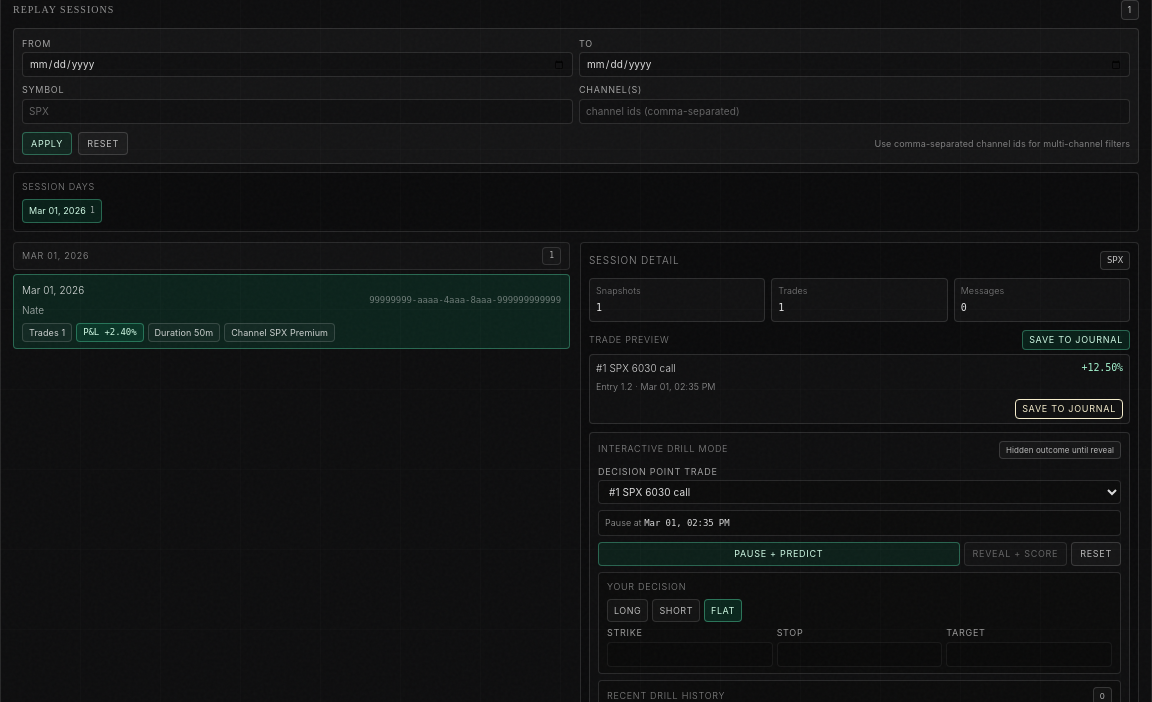
Scenario: spx-command-center/replay-session-browser › supports drill pause and reveal flow with persisted result submission
Check: the text "#1 SPX 6030 call" is shown, box [596,359,676,377]
Click the button with test id "spx-replay-drill-start": {"x": 779, "y": 554} [598,542,960,566]
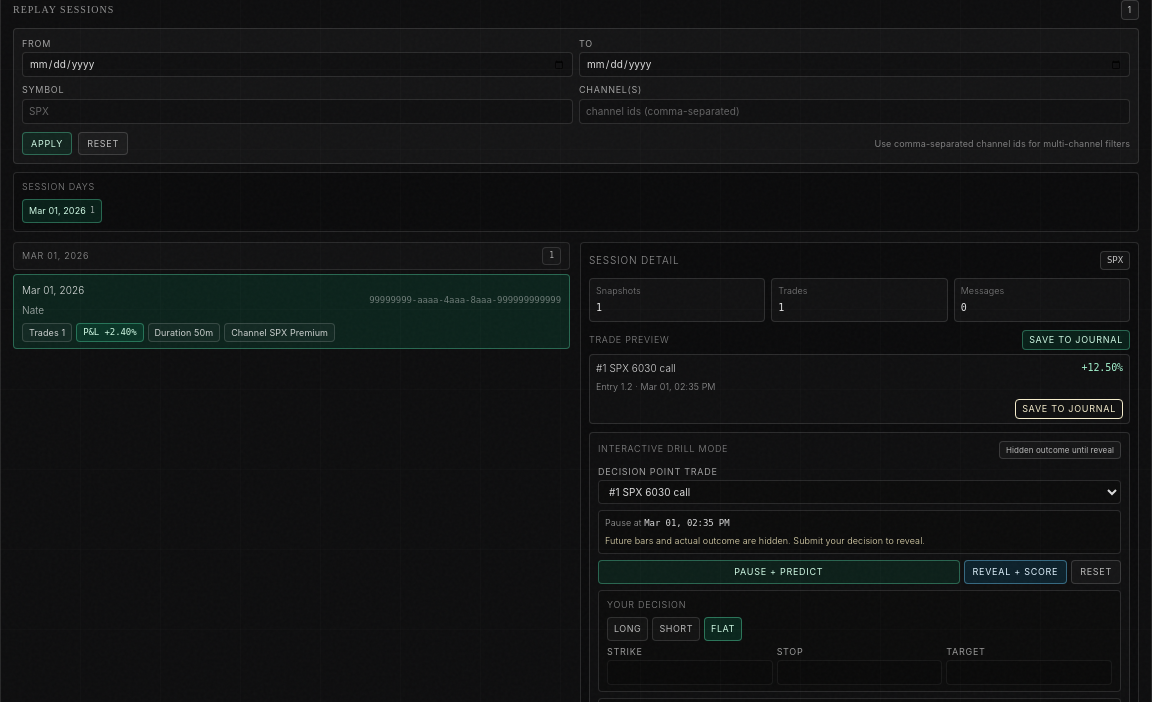
Check: the text with test id "spx-replay-drill-hidden" is shown, box [605,535,925,546]
Click the button with test id "spx-replay-drill-direction-long": {"x": 628, "y": 629} [607,617,648,641]
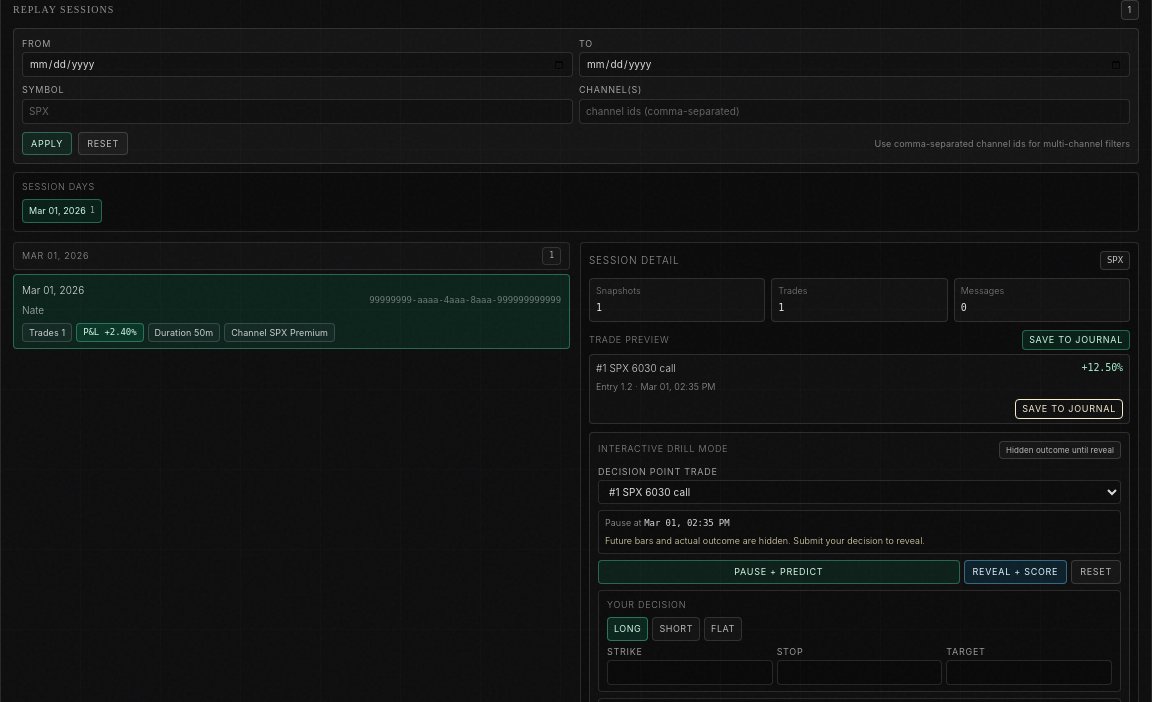
In the number field with test id "spx-replay-drill-input-strike": {"x": 690, "y": 673} [607,660,773,685], type "6030"
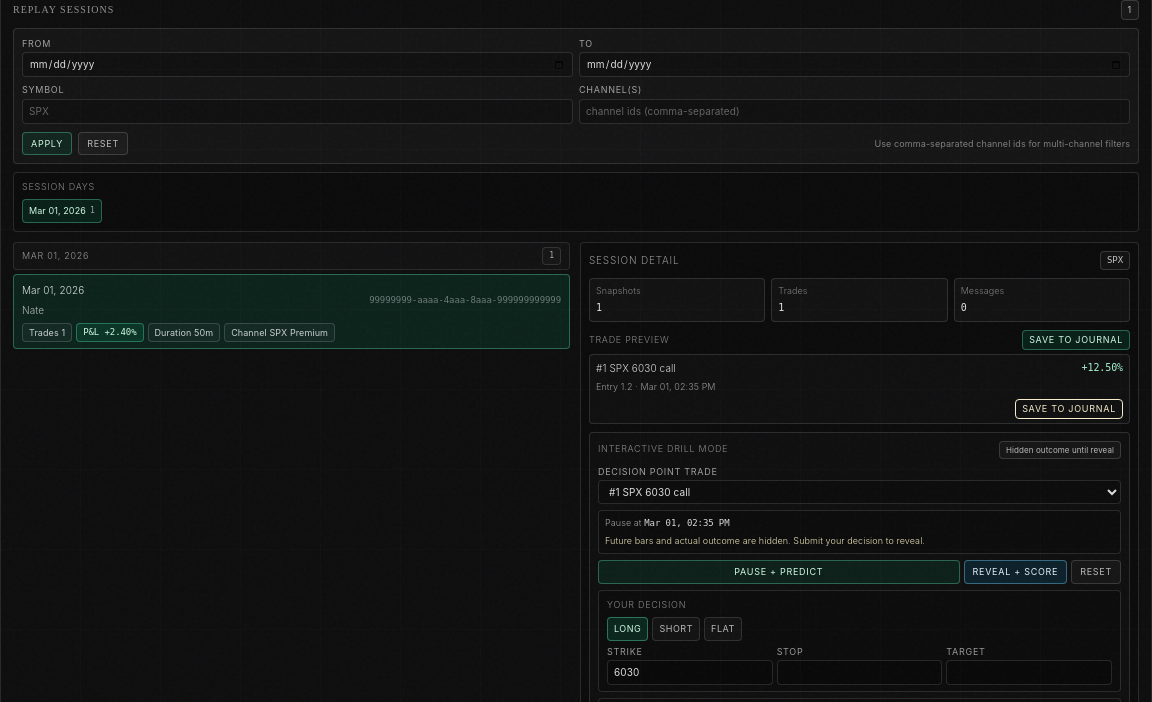
In the number field with test id "spx-replay-drill-input-stop": {"x": 860, "y": 673} [777,660,942,685], type "6025"
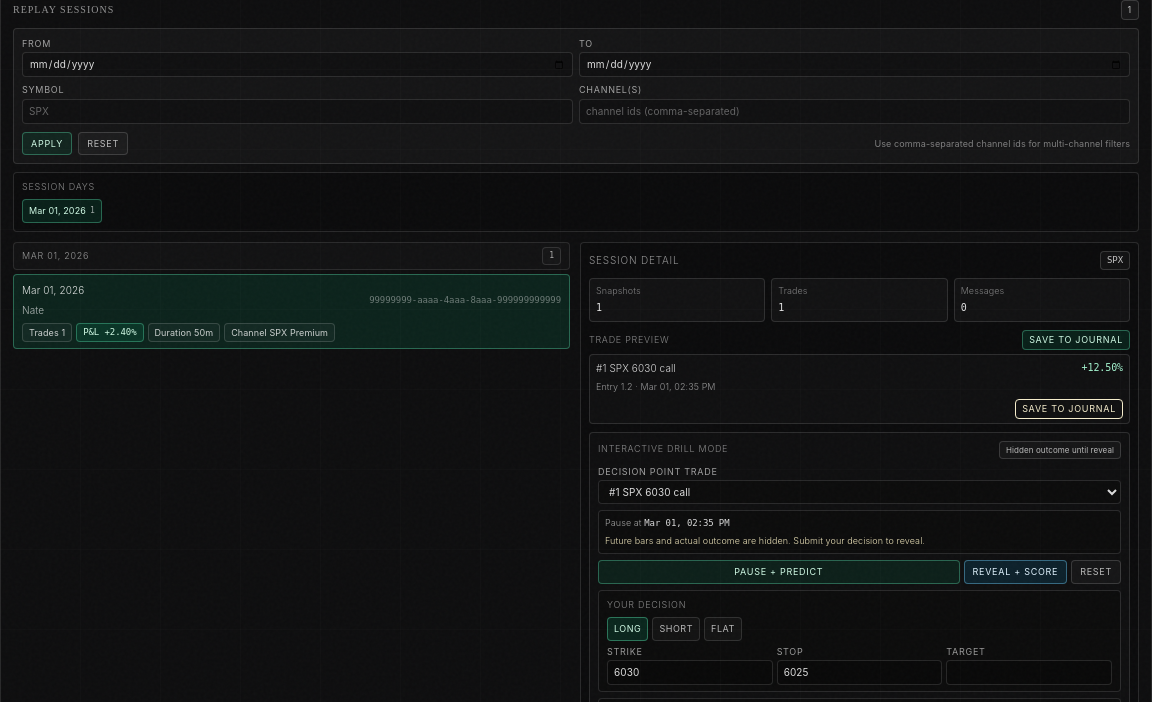
In the number field with test id "spx-replay-drill-input-target": {"x": 1029, "y": 673} [946,660,1112,685], type "6040"
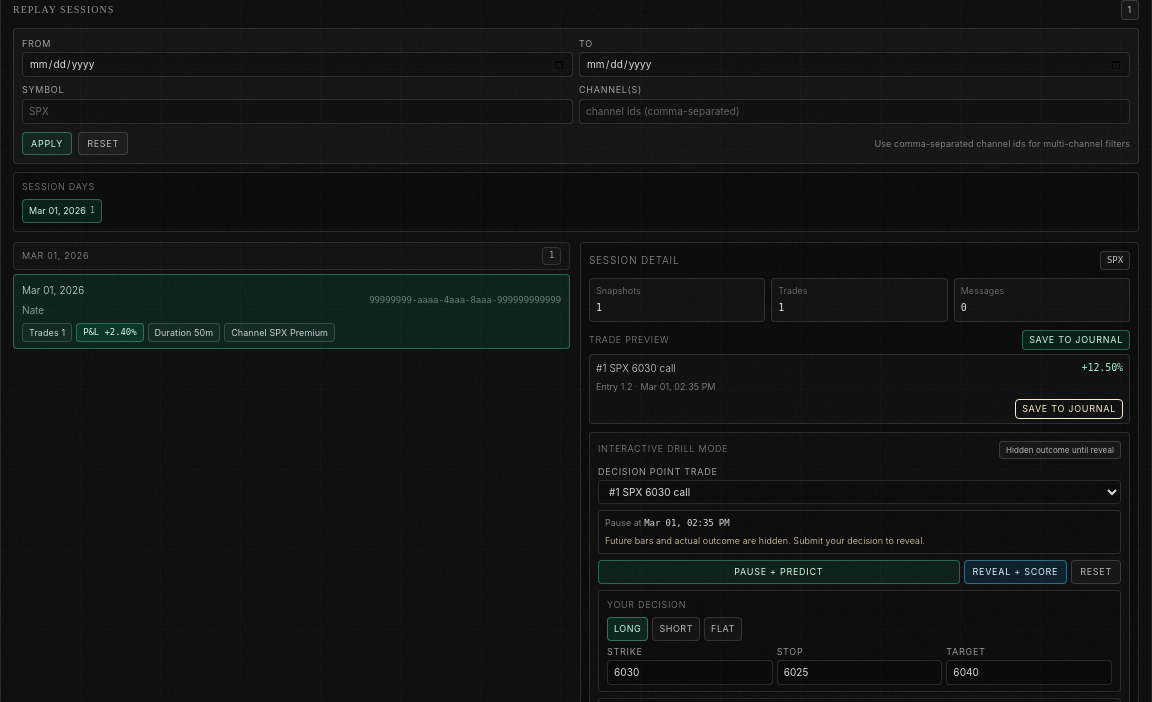
Click the button with test id "spx-replay-drill-reveal": {"x": 1015, "y": 572} [964,560,1067,584]
(page scrolled)
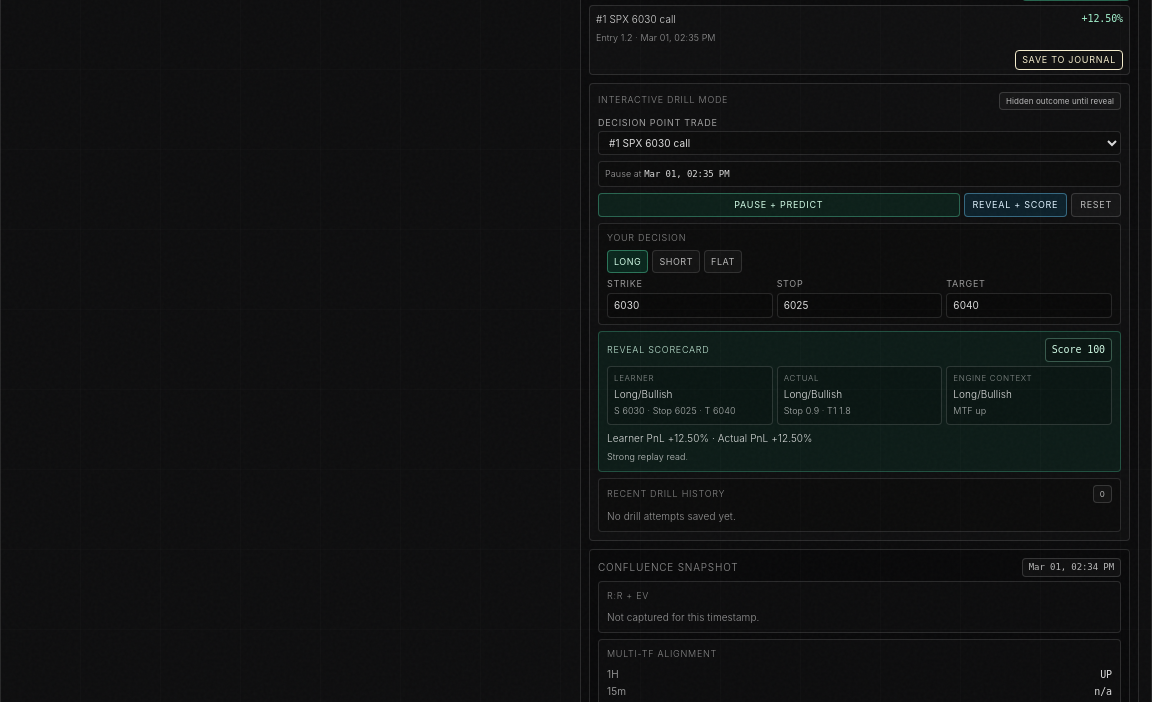
Check: the element with test id "spx-replay-drill-reveal-panel" is shown, box [598,331,1121,472]
Check: the text with test id "spx-replay-drill-score" shows "100", box [1087,344,1105,355]
